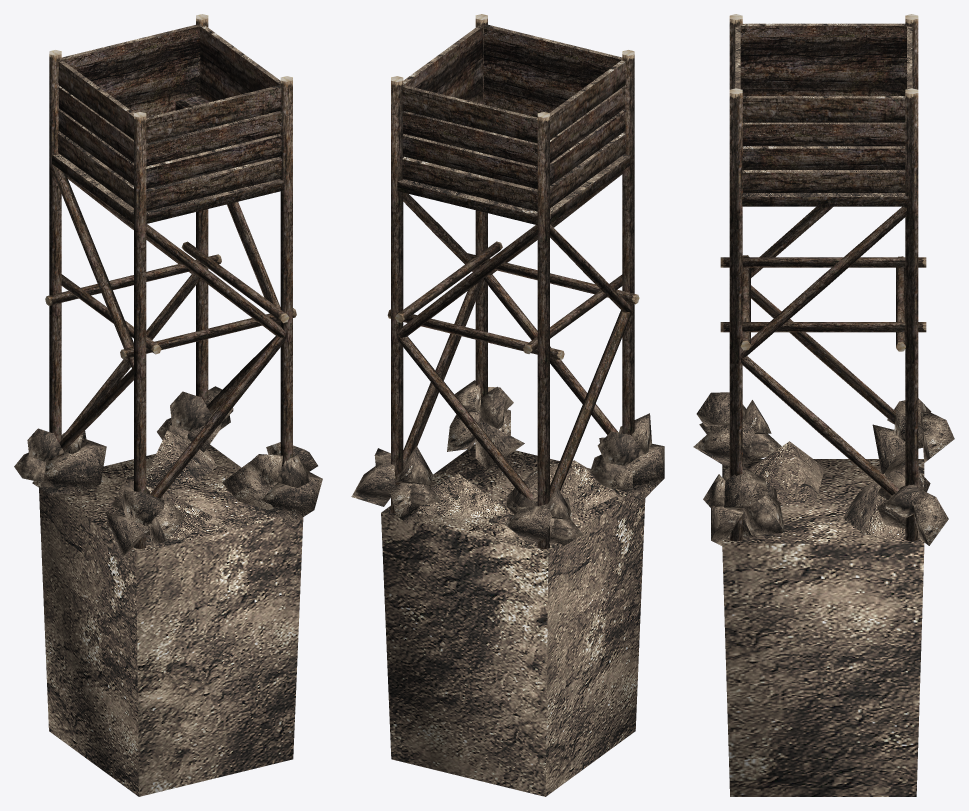
Rendered from palisade_rocks_watchtower.dae.
3 views of the same model, side by side, from view 1: azimuth 30°, elevation 25°; view 2: azimuth 150°, elevation 25°; view 3: azimuth 270°, elevation 25° (orthographic). The views are drawn at different scales.
Visible parts, largest first — view 1: Watchtower; view 2: Watchtower; view 3: Watchtower.
Boxes of the visible parts, bbox=[...] form: Watchtower: bbox=[14, 14, 322, 796]; Watchtower: bbox=[351, 14, 664, 796]; Watchtower: bbox=[693, 14, 954, 796].
Bounding box in the file's own units: 5.8 × 5.75 × 17.06.
